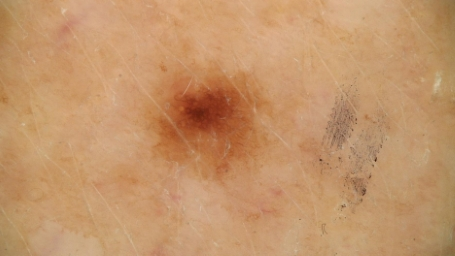nevus: (151, 82, 254, 163)
